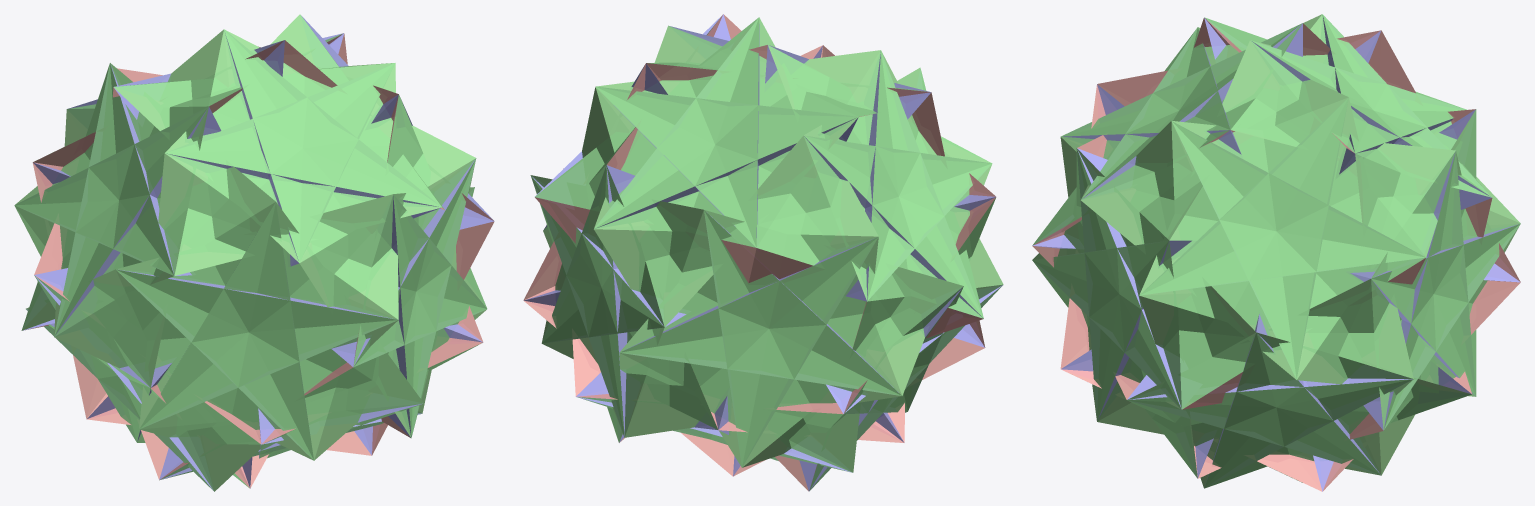
The model's file is 54_Dodekaugmentedexcavated_Sid.obj.
3 views of the same model, side by side, from view 1: azimuth 30°, elevation 25°; view 2: azimuth 150°, elevation 25°; view 3: azimuth 270°, elevation 25° (orthographic).
Bounding box in the file's own units: 1.69 × 1.69 × 1.69.
